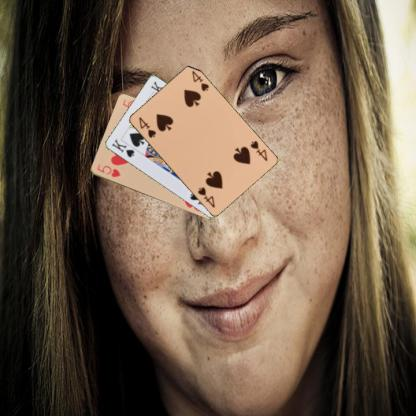4s: (247, 138, 269, 162), (136, 115, 157, 140)
5h: (95, 161, 122, 179)
Ks: (109, 136, 135, 159)
